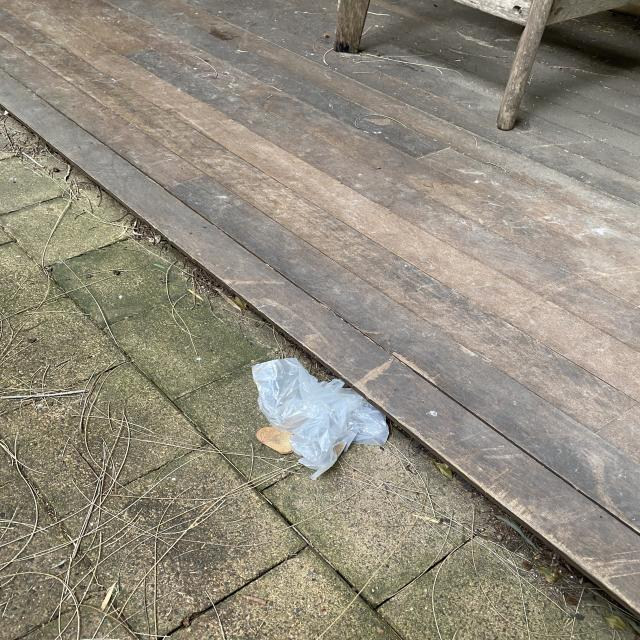bag: (251, 358, 389, 480)
